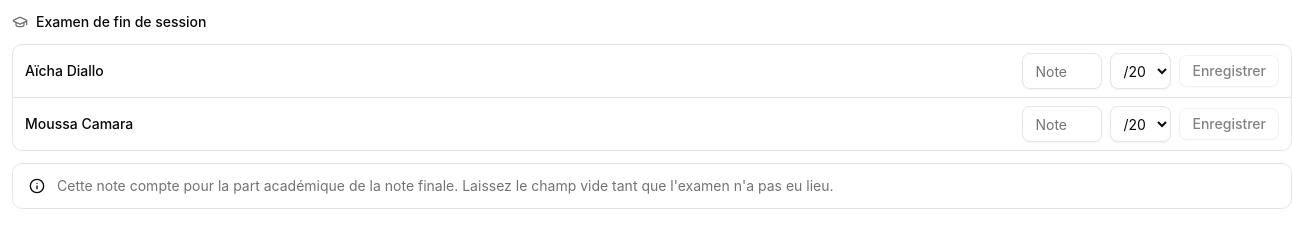
SectionExamen › n’active le bouton qu’une fois quelque chose saisi
Expected: the button "Enregistrer" in the row of "Aïcha Diallo" is disabled, 1180,55 -> 1279,87
In the field with placeholder "Note" in the row of "Aïcha Diallo": (1062, 71) 1022,53 -> 1102,89, type "12"
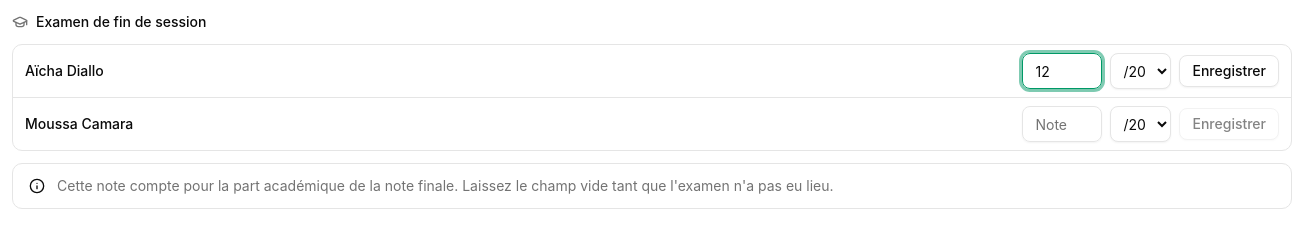
Expected: the button "Enregistrer" in the row of "Aïcha Diallo" is enabled, 1180,55 -> 1279,87
